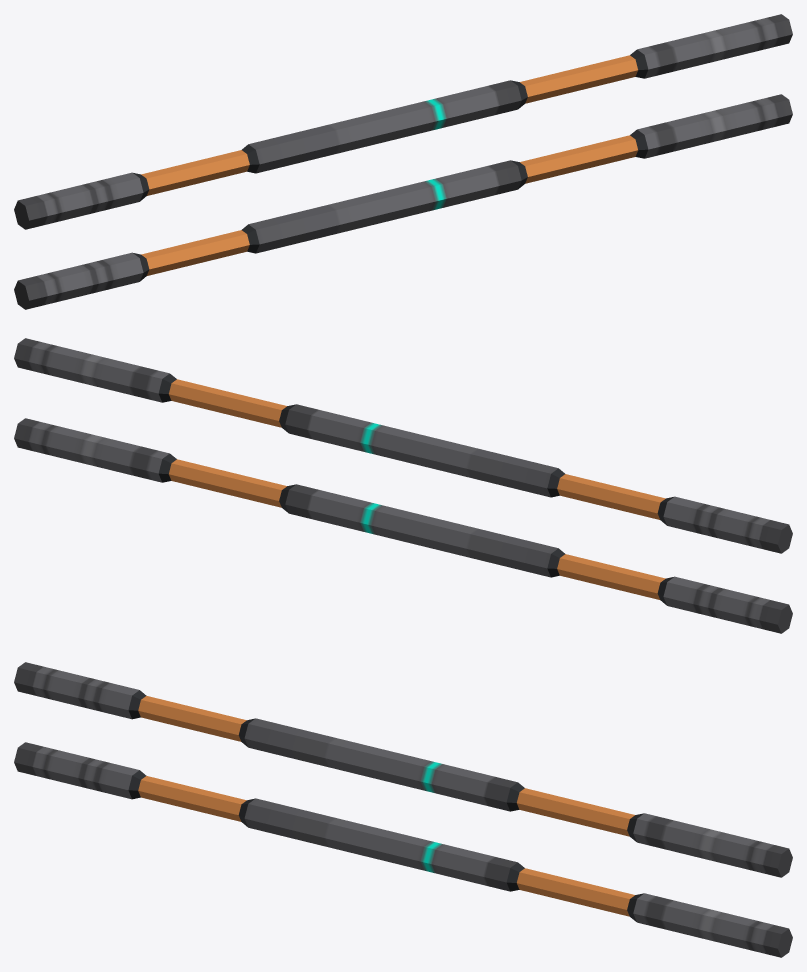
Rendered from SM_Bld_Railing_Rail_Straight_01.fbx.
3 views of the same model, one above another, from view 1: azimuth 30°, elevation 25°; view 2: azimuth 150°, elevation 25°; view 3: azimuth 330°, elevation 25° (orthographic).
Parts seen in each view (by area): view 1: SM_Bld_Railing_Rail_Straight_01; view 2: SM_Bld_Railing_Rail_Straight_01; view 3: SM_Bld_Railing_Rail_Straight_01.
Part boxes in pixels (bbox=[...]): SM_Bld_Railing_Rail_Straight_01: bbox=[14, 14, 792, 309]; SM_Bld_Railing_Rail_Straight_01: bbox=[14, 338, 792, 633]; SM_Bld_Railing_Rail_Straight_01: bbox=[14, 662, 792, 957].
Size of the model in its own units: 250 by 32.48 by 8.59.
